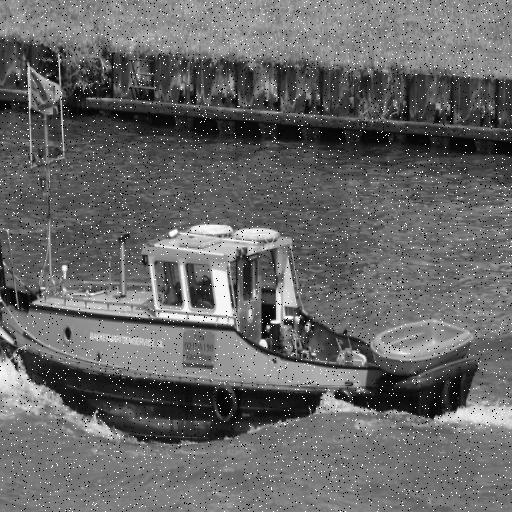tugboat: (1, 49, 483, 456)
